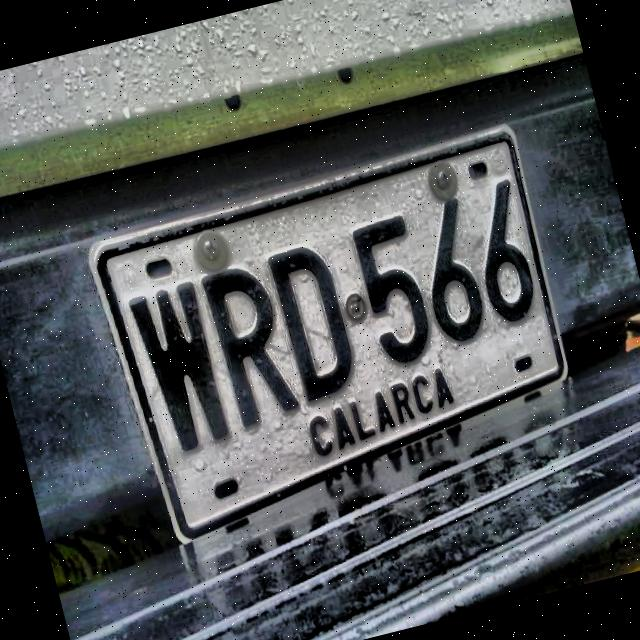plate: (96, 133, 561, 535)
